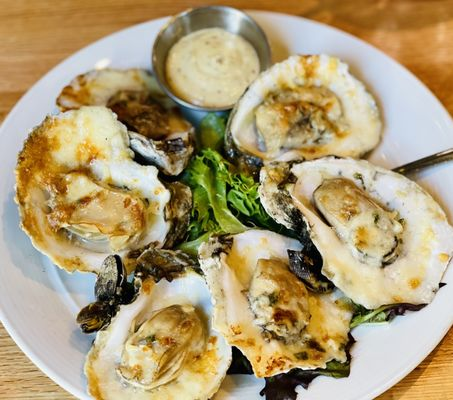sushi: (151, 7, 273, 128)
